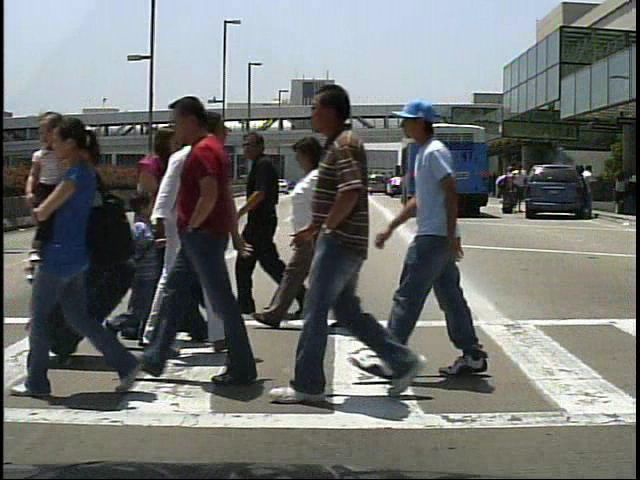person: (288, 84, 427, 424), (160, 92, 259, 387), (123, 108, 236, 365), (402, 103, 492, 382), (143, 123, 234, 345), (274, 135, 356, 333), (233, 122, 306, 323), (134, 118, 191, 362), (124, 191, 166, 326), (582, 165, 602, 218), (498, 166, 516, 219), (512, 165, 529, 215)
